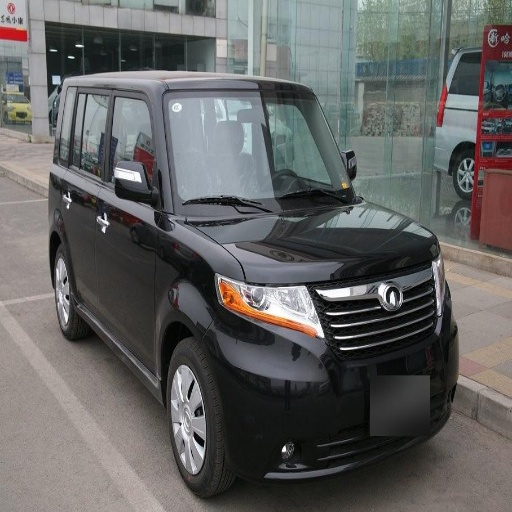front_bumper: (217, 260, 450, 474)
front_right_door: (96, 113, 156, 367)
front_right_light: (219, 279, 322, 337)
hood: (181, 201, 438, 285)
